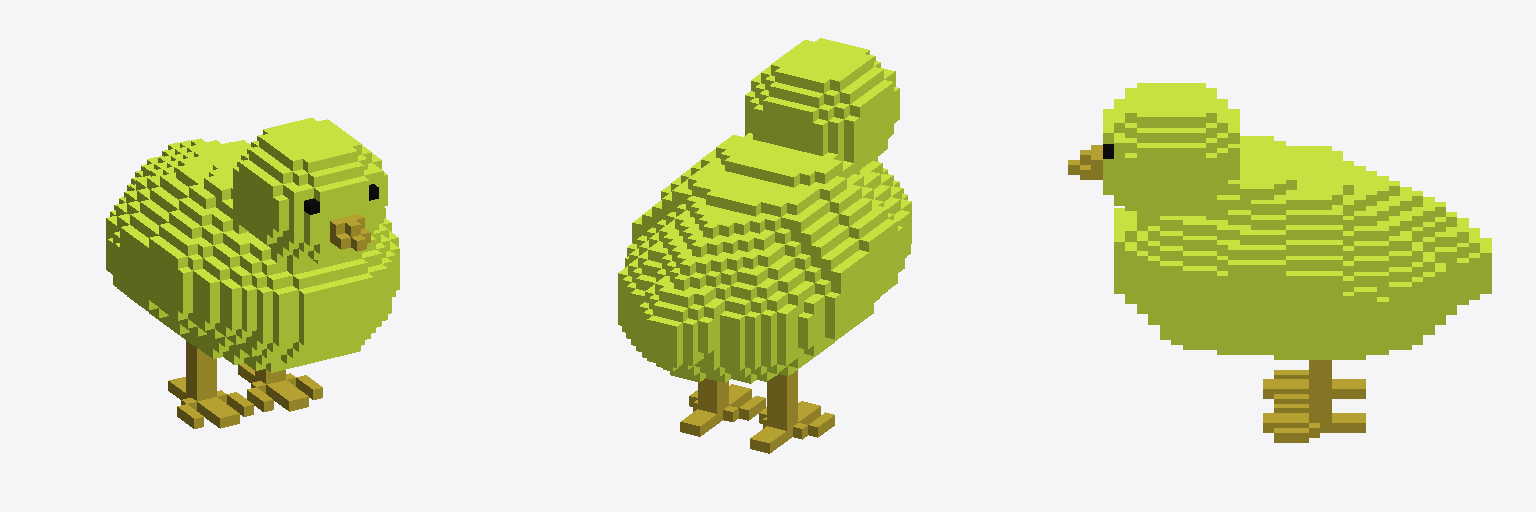
The picture shows the model from 3 angles: view 1: azimuth 30°, elevation 25°; view 2: azimuth 150°, elevation 25°; view 3: azimuth 270°, elevation 25°; orthographic projection.
Visible parts, largest first — view 1: object 1; view 2: object 1; view 3: object 1.
Part boxes in pixels (left/top/right/bottom): object 1: left=106, top=118, right=399, bottom=428; object 1: left=618, top=38, right=911, bottom=453; object 1: left=1068, top=83, right=1491, bottom=442.
Size of the model in its own units: 2.1 by 3 by 3.7.
1 materials, 1 textured.